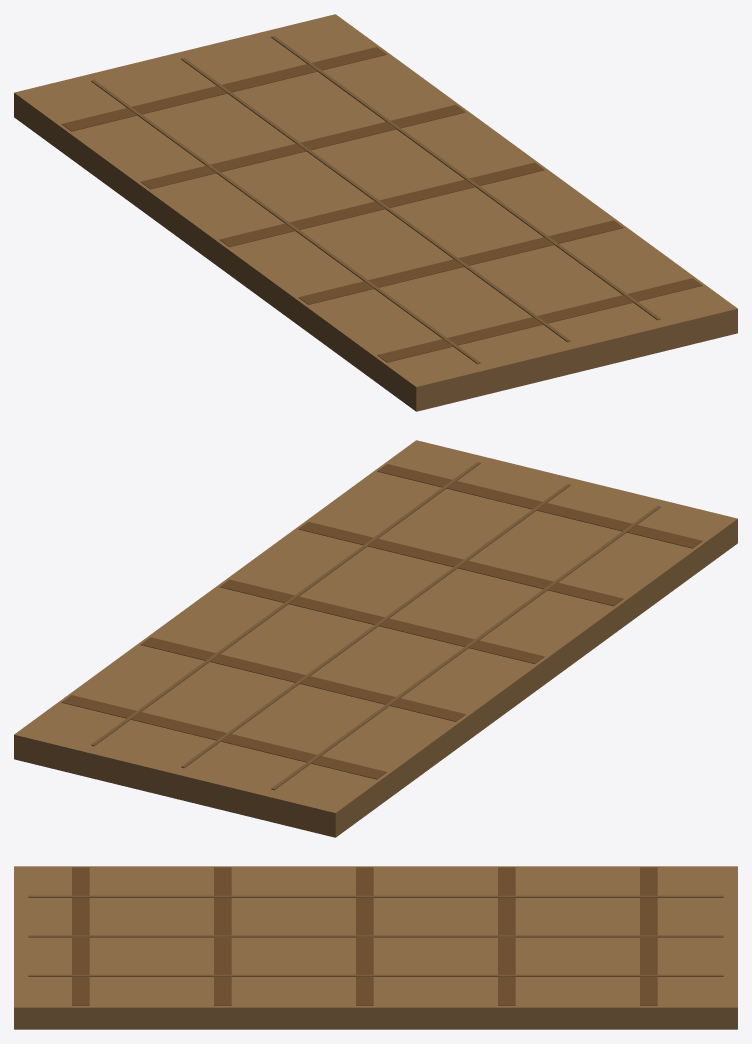
Rendered from Mtn_PlankShort.fbx.
3 renders of one model, top to bottom at view 1: azimuth 30°, elevation 25°; view 2: azimuth 150°, elevation 25°; view 3: azimuth 270°, elevation 25°, orthographic. The views are drawn at different scales.
Visible parts, largest first — view 1: Mtn_PlankShort; view 2: Mtn_PlankShort; view 3: Mtn_PlankShort.
Part boxes in pixels (bbox=[...]): Mtn_PlankShort: bbox=[14, 14, 737, 411]; Mtn_PlankShort: bbox=[14, 440, 737, 837]; Mtn_PlankShort: bbox=[14, 866, 737, 1029].
Bounding box in the file's own units: 3 × 0.23 × 6.5.
